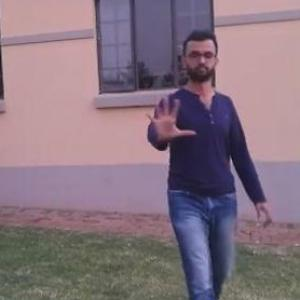follow_hand: (139, 90, 200, 144)
